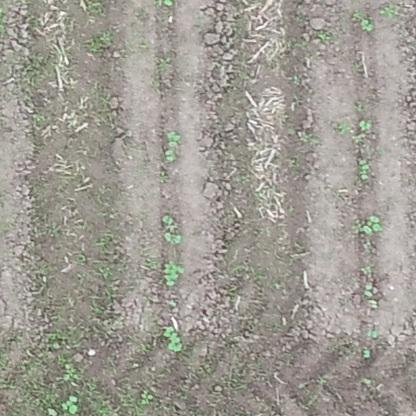vc: (360, 211, 386, 237), (162, 322, 185, 351), (164, 130, 183, 162), (162, 259, 184, 285), (60, 395, 84, 413), (357, 155, 371, 183), (164, 232, 185, 245), (359, 16, 376, 31), (139, 391, 154, 406), (161, 214, 177, 226), (362, 283, 374, 297), (359, 118, 371, 130), (366, 327, 379, 338), (362, 346, 372, 360)
